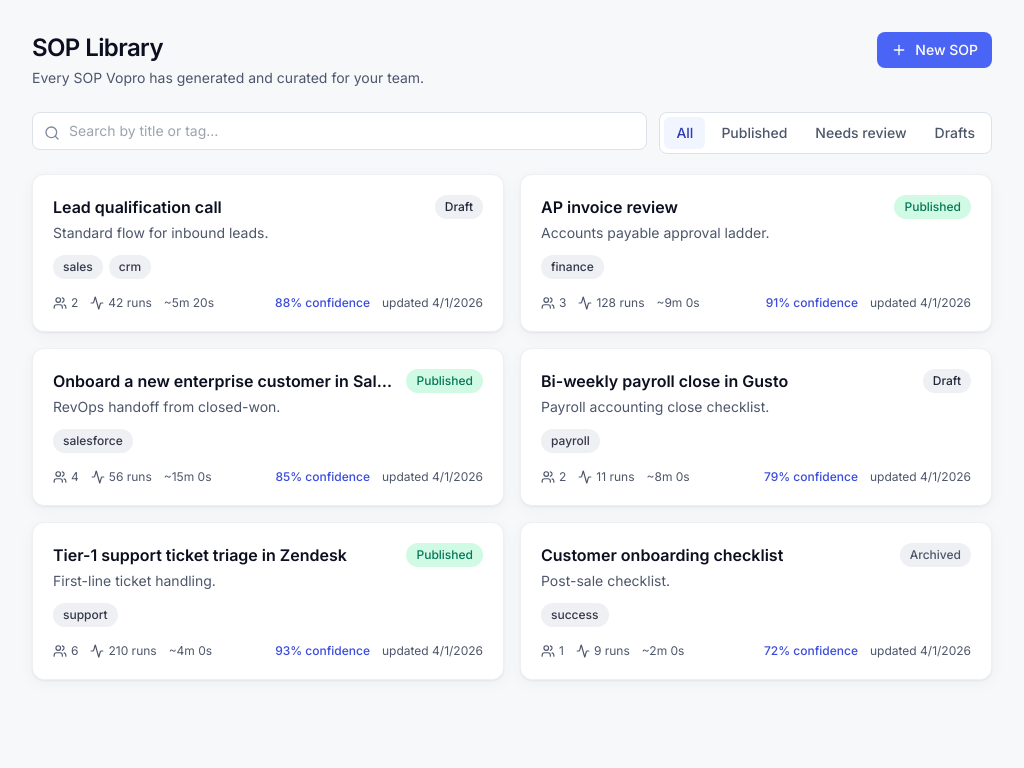
Test: SopListPage › filters by search query
Expected: the heading "Tier-1 support ticket triage in Zendesk" is shown, [53,543,347,567]
Type "payroll" into the field with placeholder "Search by title or tag…" at {"x": 340, "y": 131}, box [32,112,647,150]
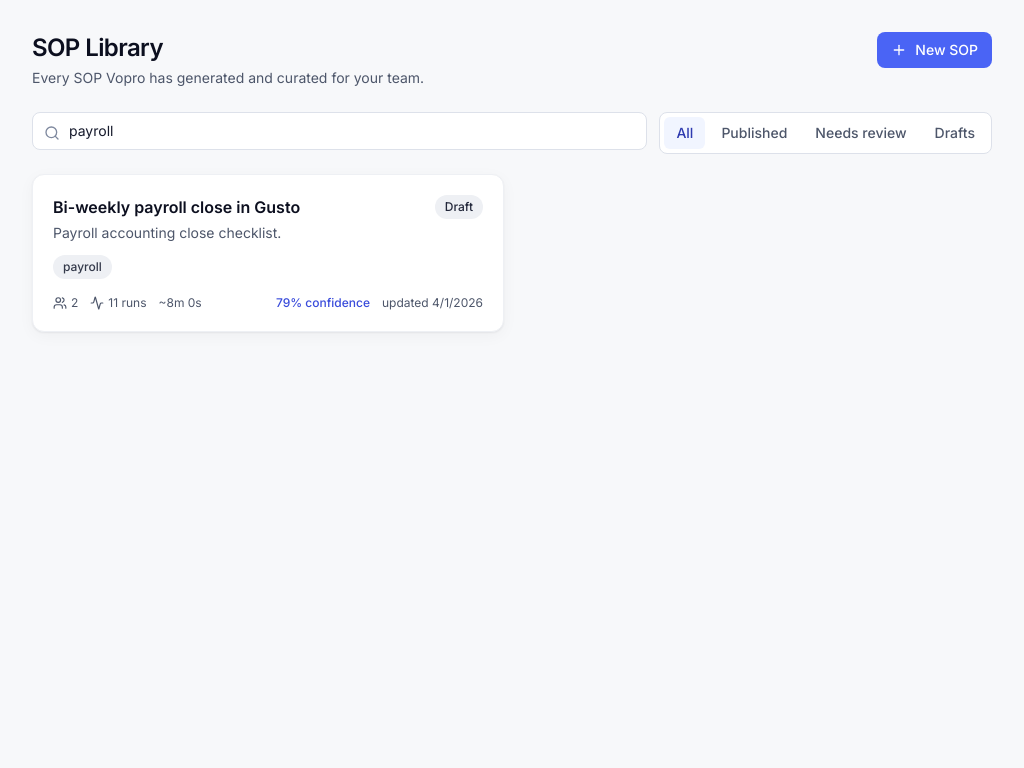
Expected: the heading "Bi-weekly payroll close in Gusto" is shown, [53,195,300,219]
Now the link "Tier-1 support ticket triage in Zendesk" is gone
